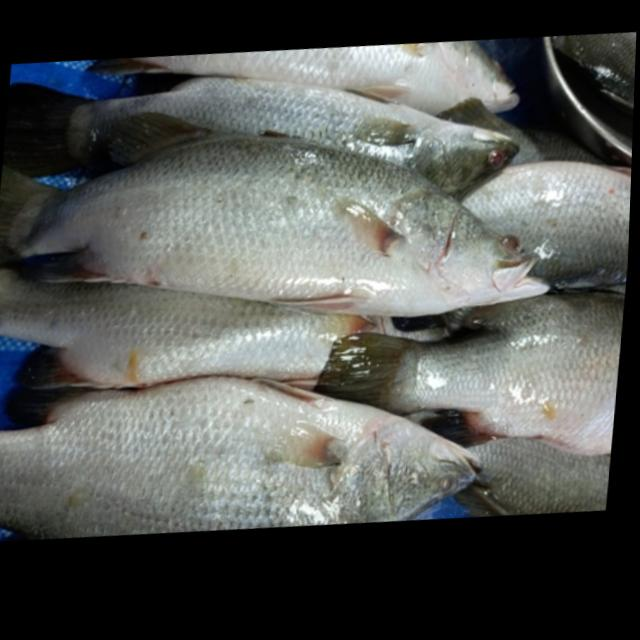Seabass: (0, 89, 562, 368), (0, 30, 528, 256), (0, 333, 494, 568)
